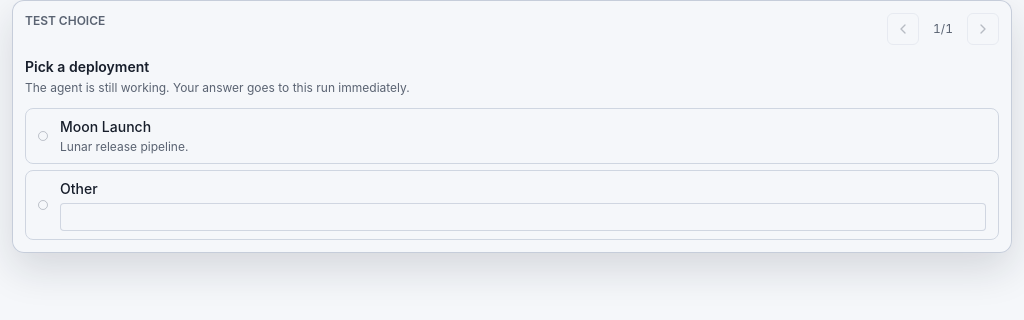
Test: failed submission preserves the free-text reply
Type "Keep my answer" into the field named "Other answer for Pick a deployment" at (523, 217), box [60, 203, 986, 231]
Then press Enter
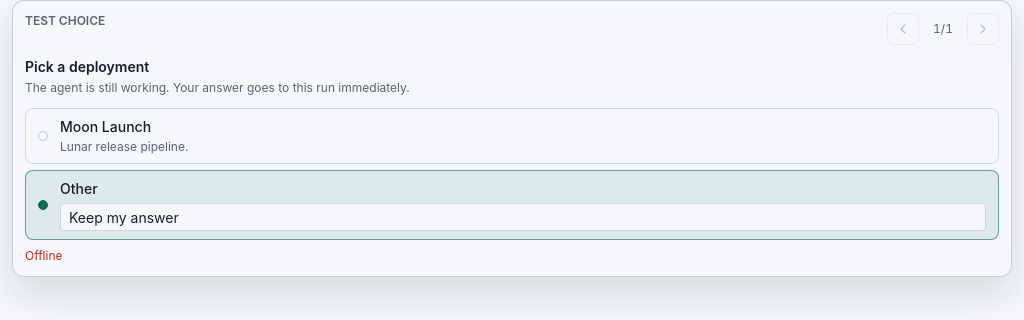
Expected: the message reads "Offline", [25, 248, 62, 263]
